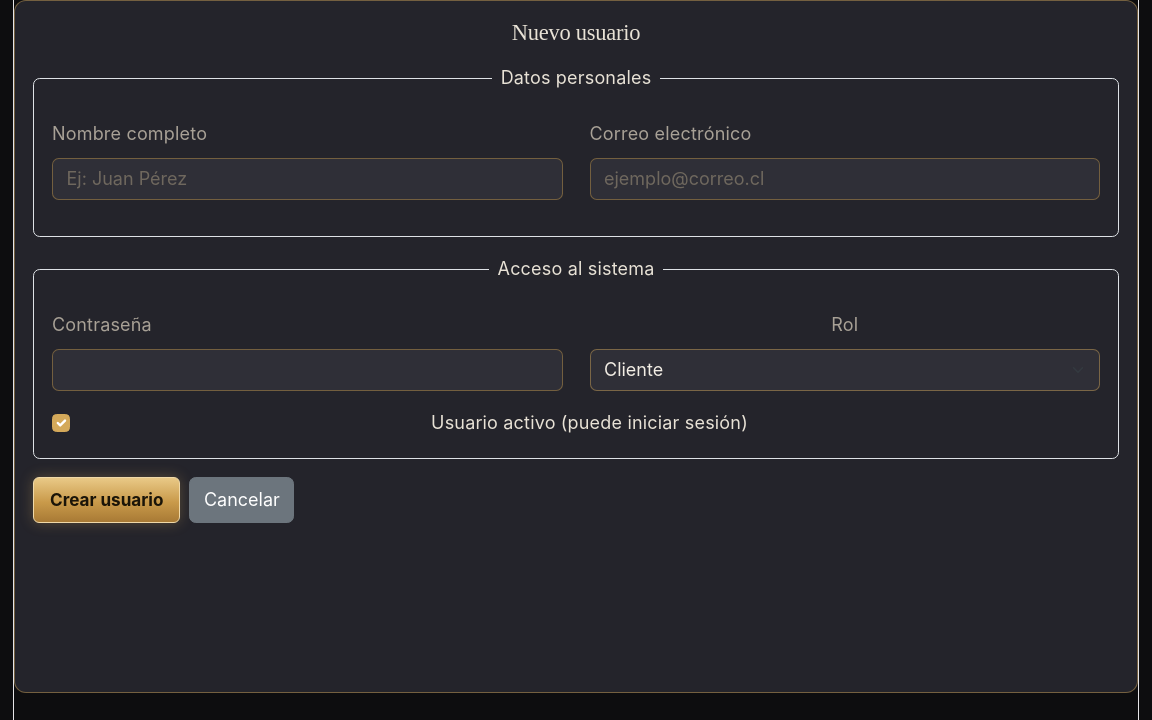
it: FormularioUsuario › al crear, exige una contraseña de al menos 6 caracteres
Type "Juan Pérez" into the field labelled "Nombre completo" at (307, 179), box [52,158,562,200]
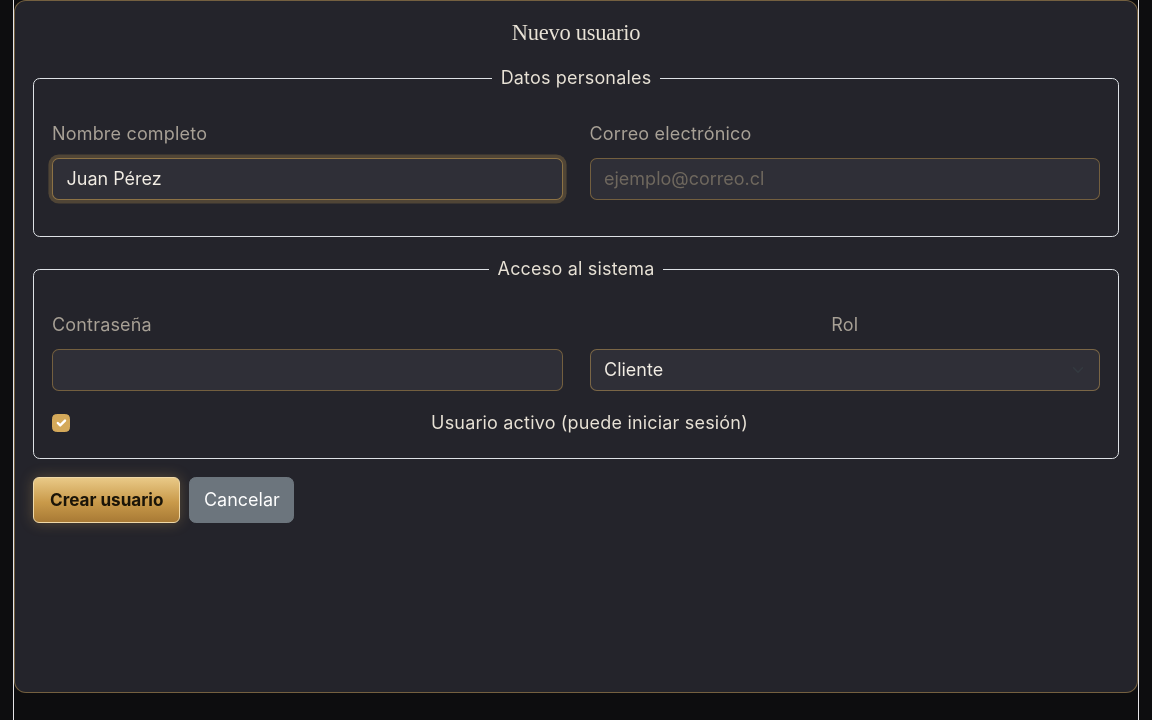
Type "juan@correo.cl" into the field labelled "Correo electrónico" at (845, 179), box [590,158,1100,200]
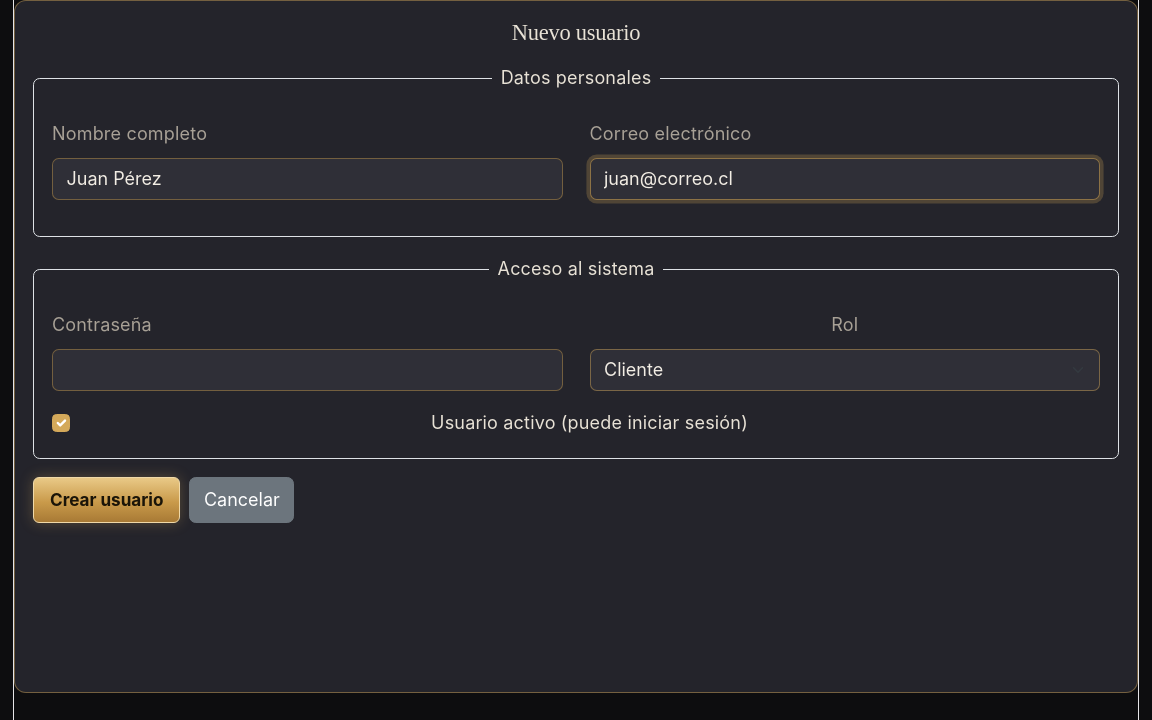
Click the button "Crear usuario" at (107, 500), box [33,477,180,522]
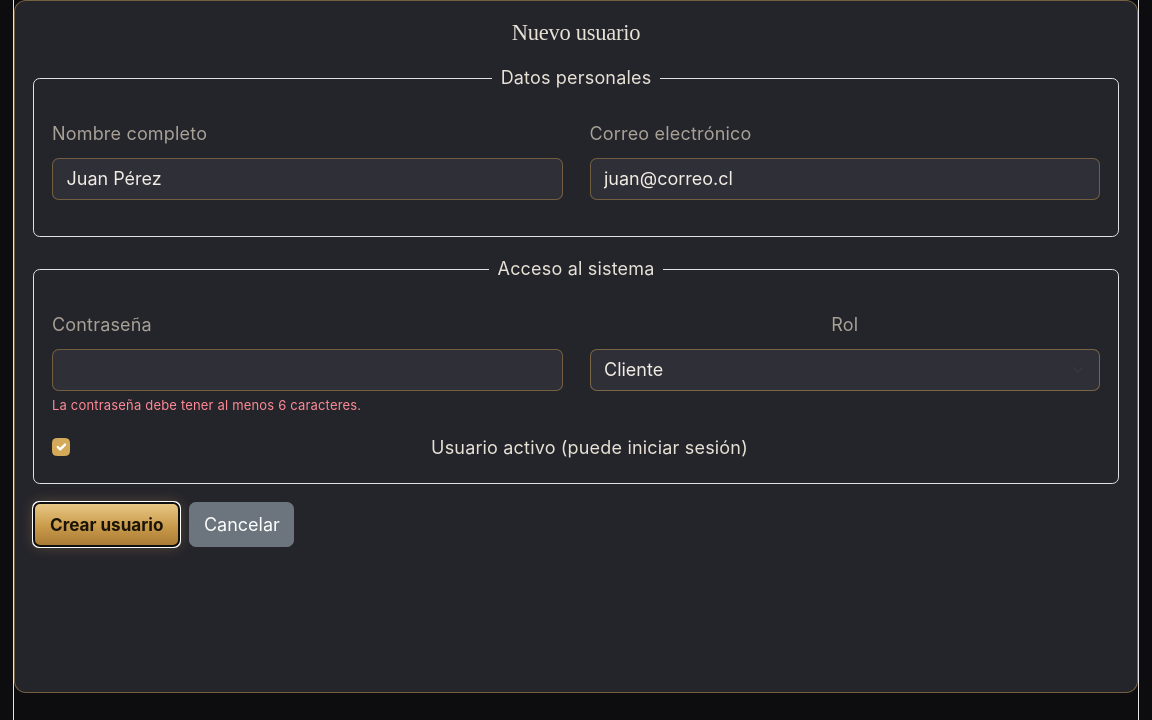
Check: the text "La contraseña debe tener al menos 6 caracteres." is shown, box [52,397,361,413]
